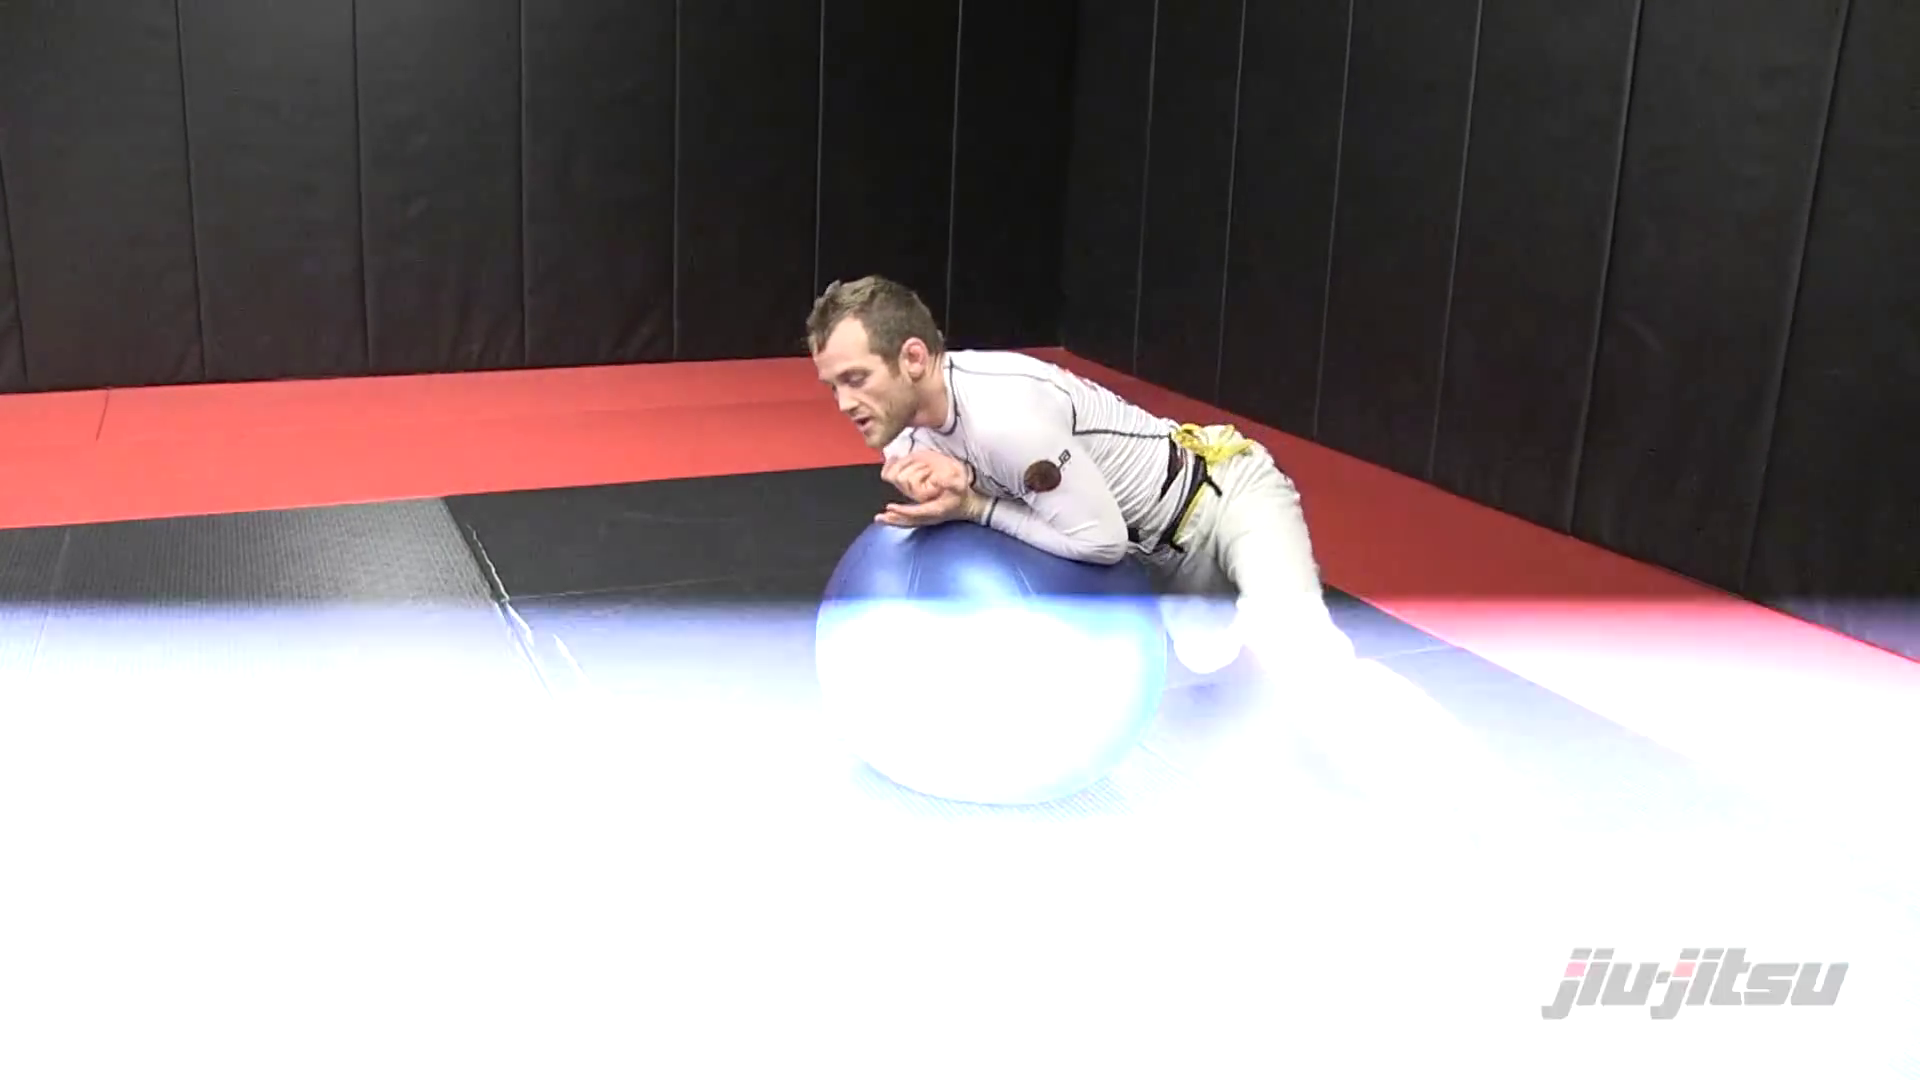yogaball: (793, 505, 1192, 849)
